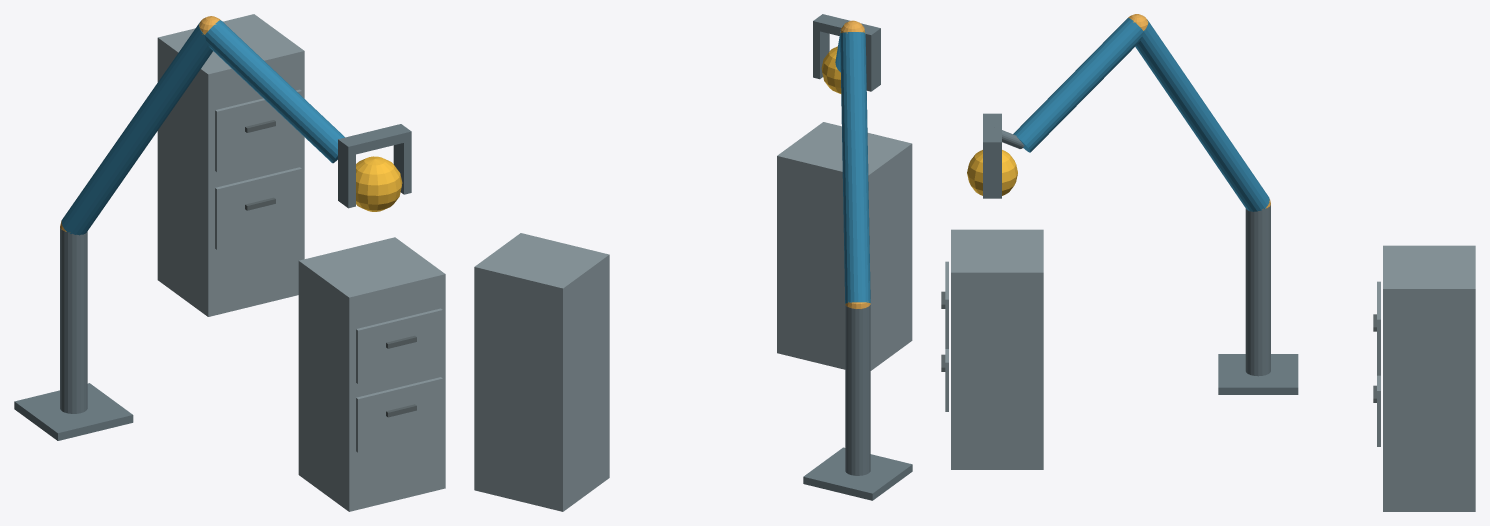
The picture shows the model from 3 angles, left to right: view 1: azimuth 30°, elevation 25°; view 2: azimuth 150°, elevation 25°; view 3: azimuth 270°, elevation 25°; orthographic projection. The views are drawn at different scales.
Parts seen in each view (by area): view 1: cabinet_1 body, cabinet_2 body, moving link 1, cabinet_2 drawer front, fixed post, moving link 2, cabinet_1 drawer front, cabinet_1 drawer front.001, cabinet_2 drawer front.001, pedestal, ball ball_1, gripper bridge (+2 smaller); view 2: cabinet_2 body, cabinet_1 body, moving link 1, fixed post, pedestal, gripper bridge, gripper finger -1, gripper finger 1, ball ball_1; view 3: cabinet_2 body, cabinet_1 body, moving link 1, fixed post, moving link 2, pedestal, ball ball_1, gripper finger 1, gripper bridge.
Part boxes in pixels (left/top/right/bottom): cabinet_1 body: left=298, top=237, right=445, bottom=511; cabinet_2 body: left=157, top=14, right=304, bottom=316; moving link 1: left=61, top=21, right=212, bottom=235; cabinet_2 drawer front: left=215, top=167, right=301, bottom=249; fixed post: left=60, top=226, right=87, bottom=413; moving link 2: left=204, top=20, right=344, bottom=163; cabinet_1 drawer front: left=356, top=377, right=442, bottom=452; cabinet_1 drawer front.001: left=356, top=308, right=442, bottom=383; cabinet_2 drawer front.001: left=215, top=89, right=301, bottom=172; pedestal: left=14, top=383, right=133, bottom=440; ball ball_1: left=356, top=156, right=402, bottom=211; gripper bridge: left=338, top=124, right=411, bottom=156; cabinet_2 body: left=474, top=233, right=609, bottom=511; cabinet_1 body: left=777, top=122, right=912, bottom=370; moving link 1: left=840, top=32, right=870, bottom=303; fixed post: left=845, top=305, right=870, bottom=475; pedestal: left=803, top=447, right=912, bottom=500; gripper bridge: left=813, top=14, right=880, bottom=43; gripper finger -1: left=866, top=37, right=880, bottom=91; gripper finger 1: left=813, top=30, right=829, bottom=79; ball ball_1: left=821, top=46, right=841, bottom=93; cabinet_2 body: left=1383, top=245, right=1475, bottom=511; cabinet_1 body: left=951, top=229, right=1043, bottom=469; moving link 1: left=1135, top=19, right=1269, bottom=211; fixed post: left=1245, top=205, right=1270, bottom=376; moving link 2: left=1013, top=17, right=1143, bottom=152; pedestal: left=1218, top=354, right=1298, bottom=394; ball ball_1: left=967, top=150, right=1017, bottom=195; gripper finger 1: left=983, top=151, right=1001, bottom=198; gripper bridge: left=983, top=113, right=1001, bottom=150.
Bounding box in the file's own units: 1.12 × 1.36 × 1.67.
